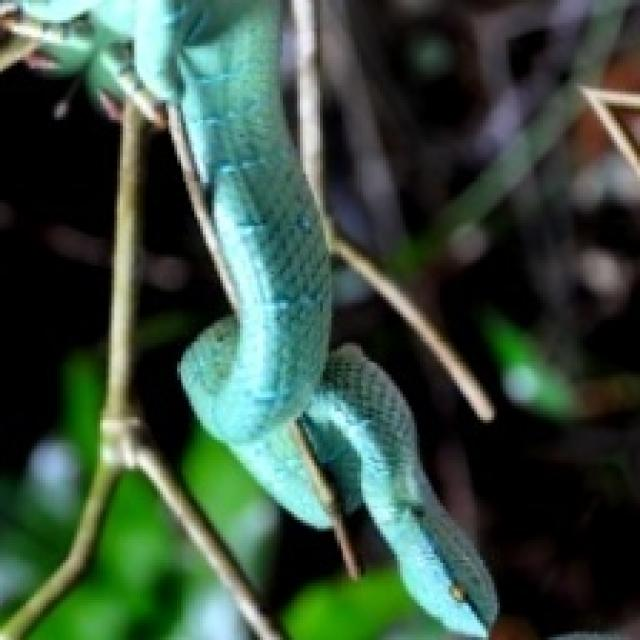north ph temple pitviper: (134, 0, 494, 634), (3, 103, 137, 637)
